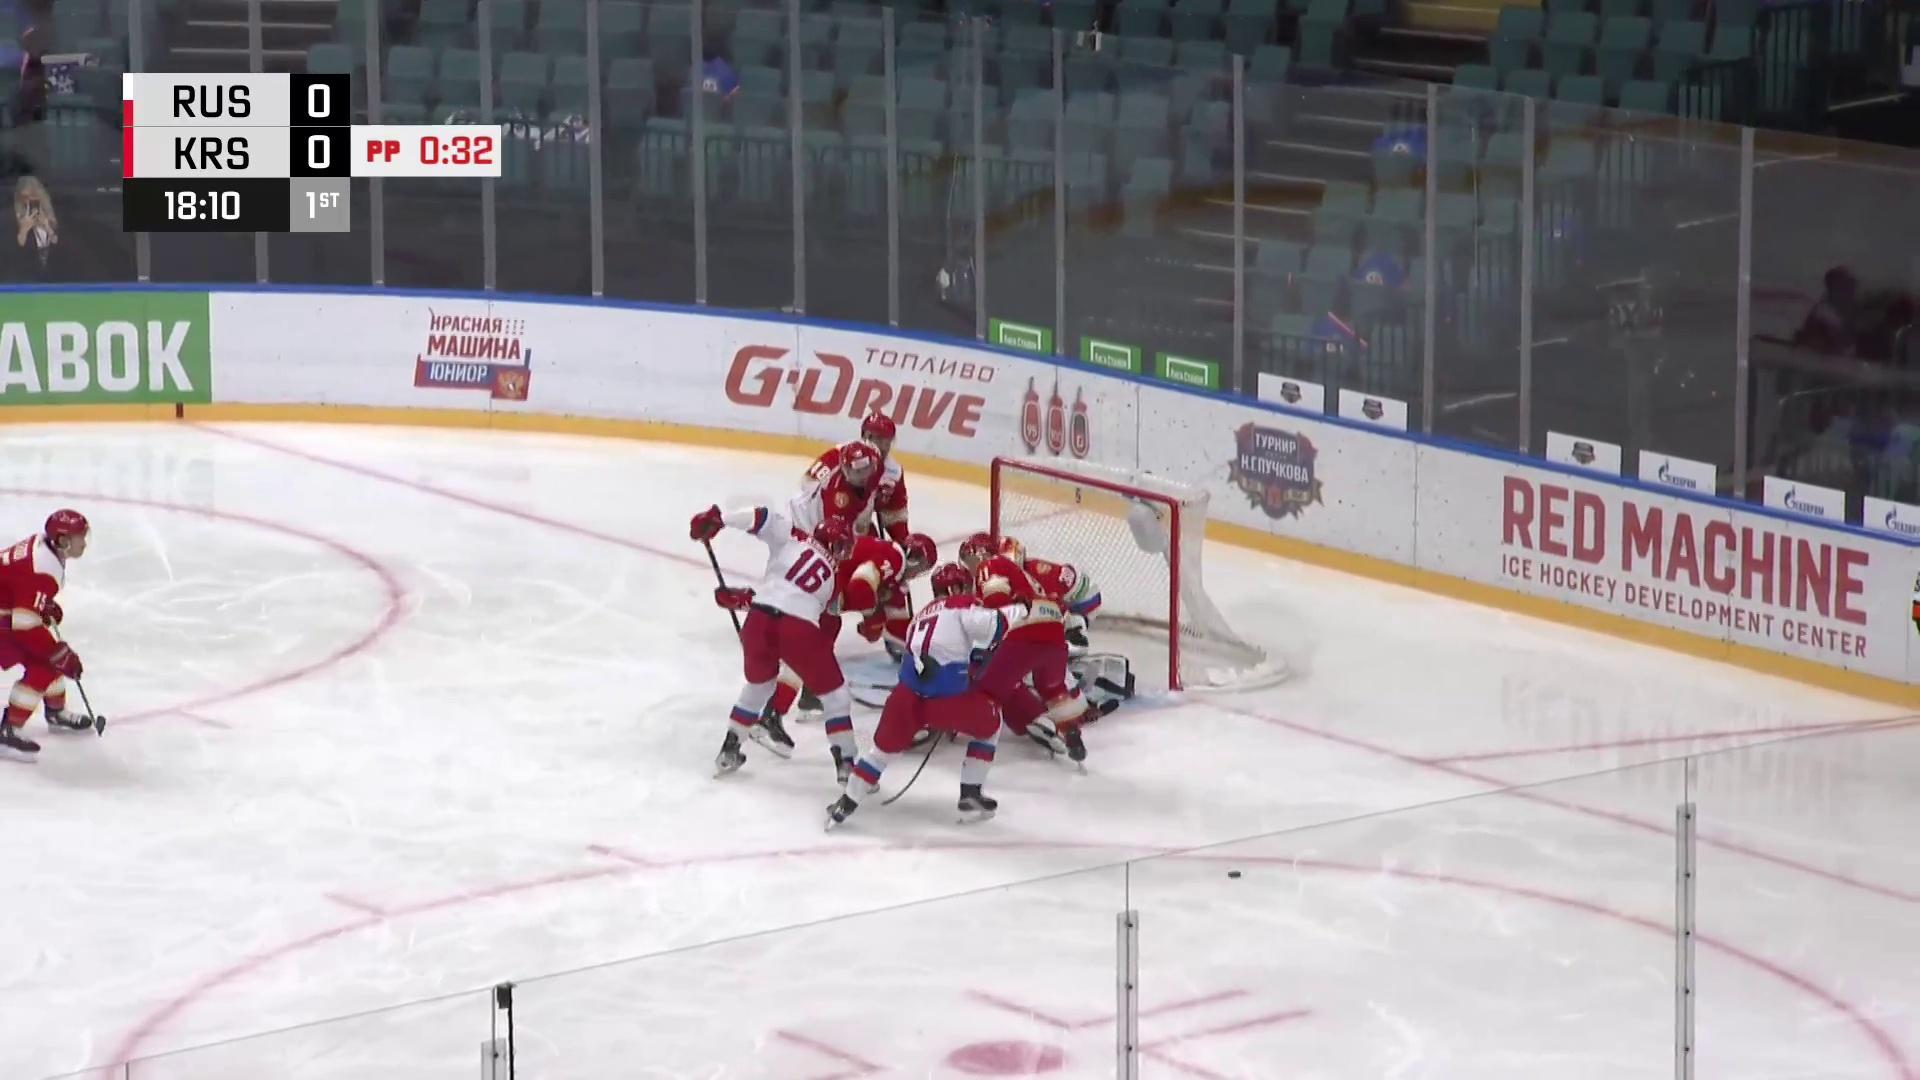ball: (1225, 868, 1245, 881)
